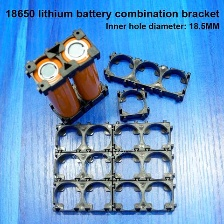battery: (32, 55, 81, 121), (58, 35, 103, 102)
